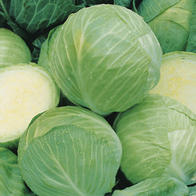cabbage: (48, 5, 165, 114), (14, 105, 123, 195), (112, 94, 195, 186), (0, 60, 58, 143)
